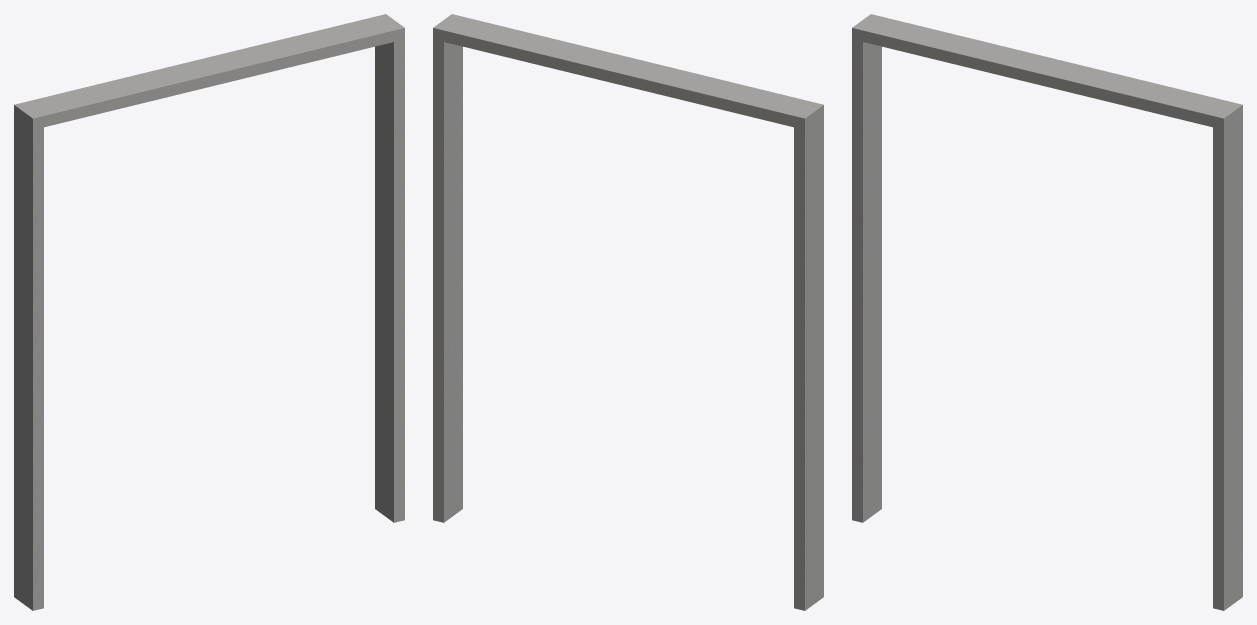
The picture shows the model from 3 angles, left to right: view 1: azimuth 30°, elevation 25°; view 2: azimuth 150°, elevation 25°; view 3: azimuth 330°, elevation 25°; orthographic projection.
Visible parts, largest first — view 1: futra_160; view 2: futra_160; view 3: futra_160.
Boxes of the visible parts, x1,y1,x2,y2 form: futra_160: (14,14,404,610); futra_160: (433,14,823,610); futra_160: (852,14,1242,610).
Size of the model in its own units: 1.7 by 0.15 by 2.15.
